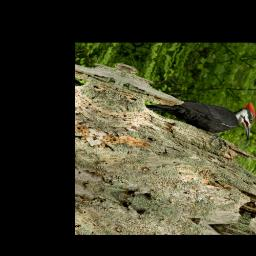Woodpecker: (135, 72, 256, 158)
